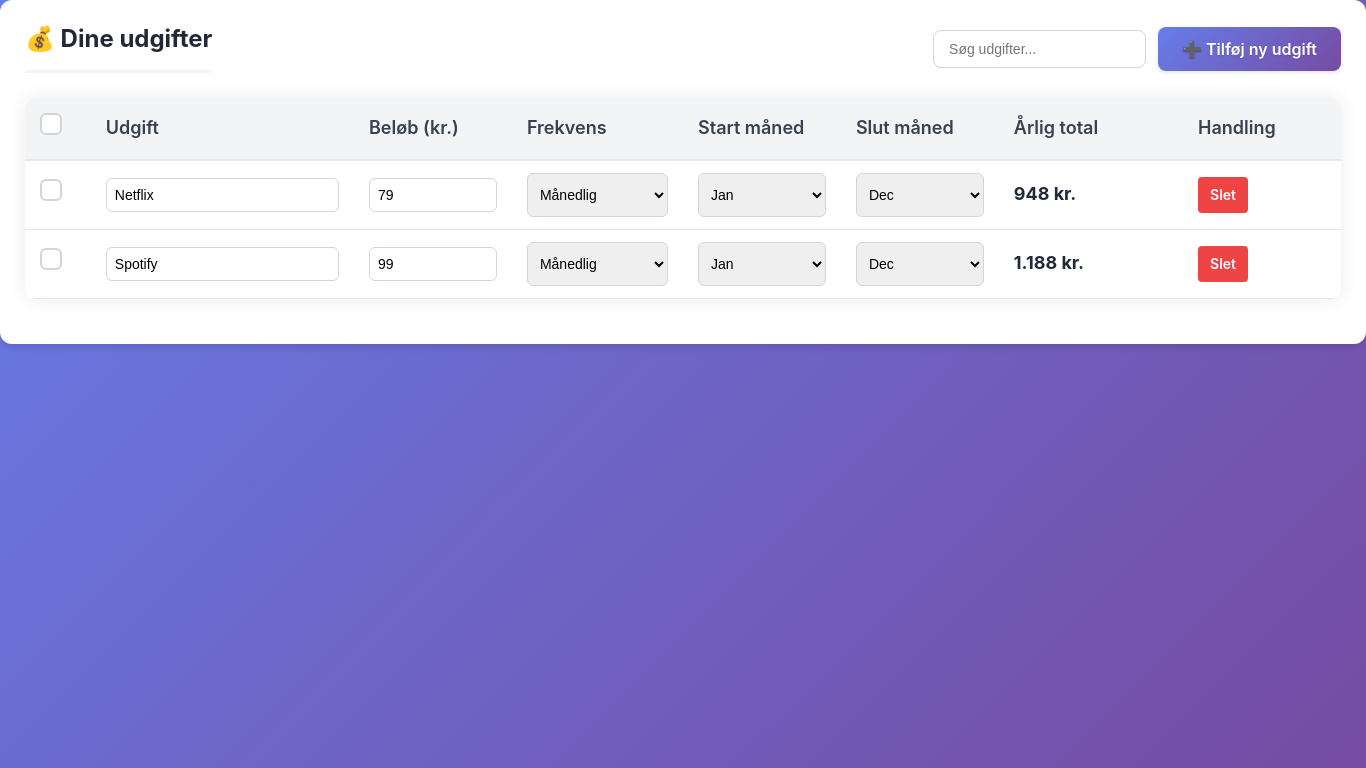
it: ExpenseManager › Search Functionality › should show no results message when no matches
Type "NonExistent" into the field with placeholder "Søg udgifter...".
click(1040, 49); type("NonExistent")  # box [933,30,1146,68]
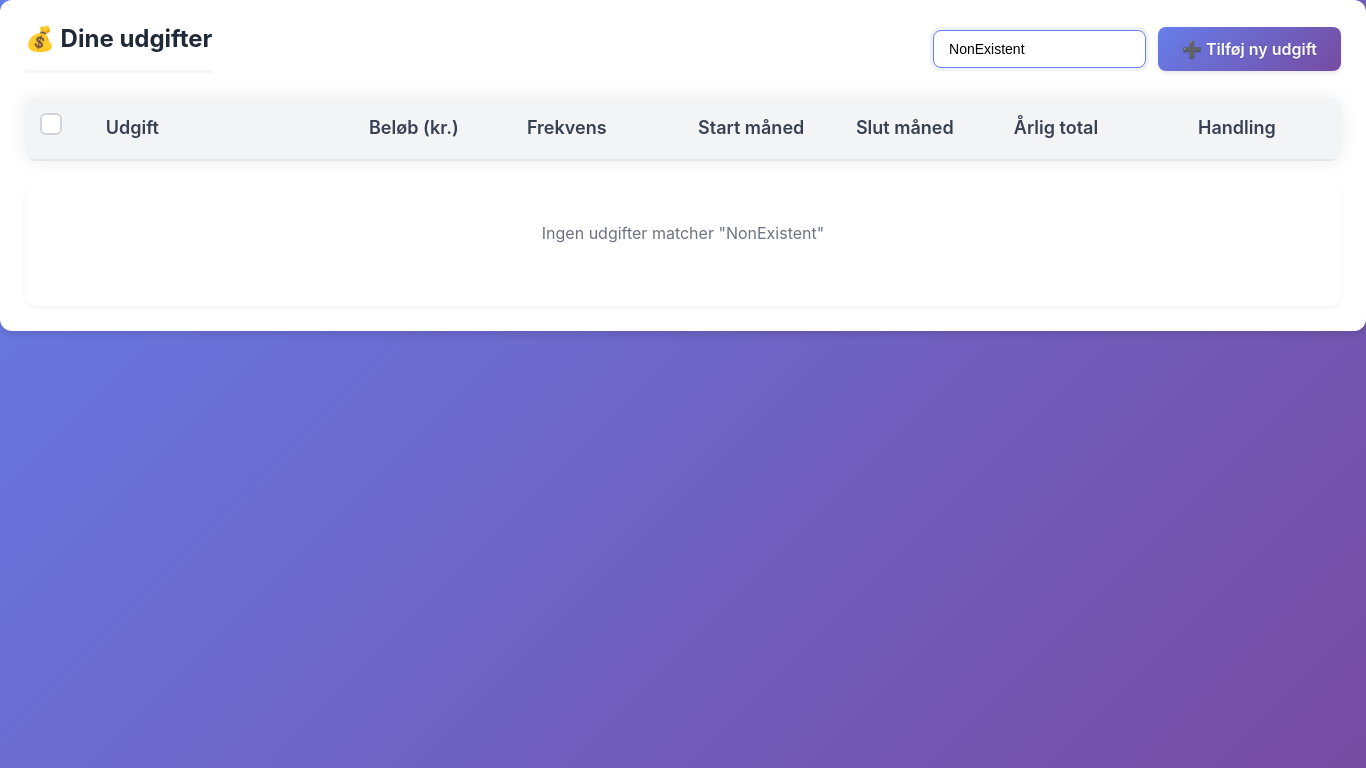
Expected: the text "Ingen udgifter matcher \"NonExistent\"" is shown, [542,223,824,243]
